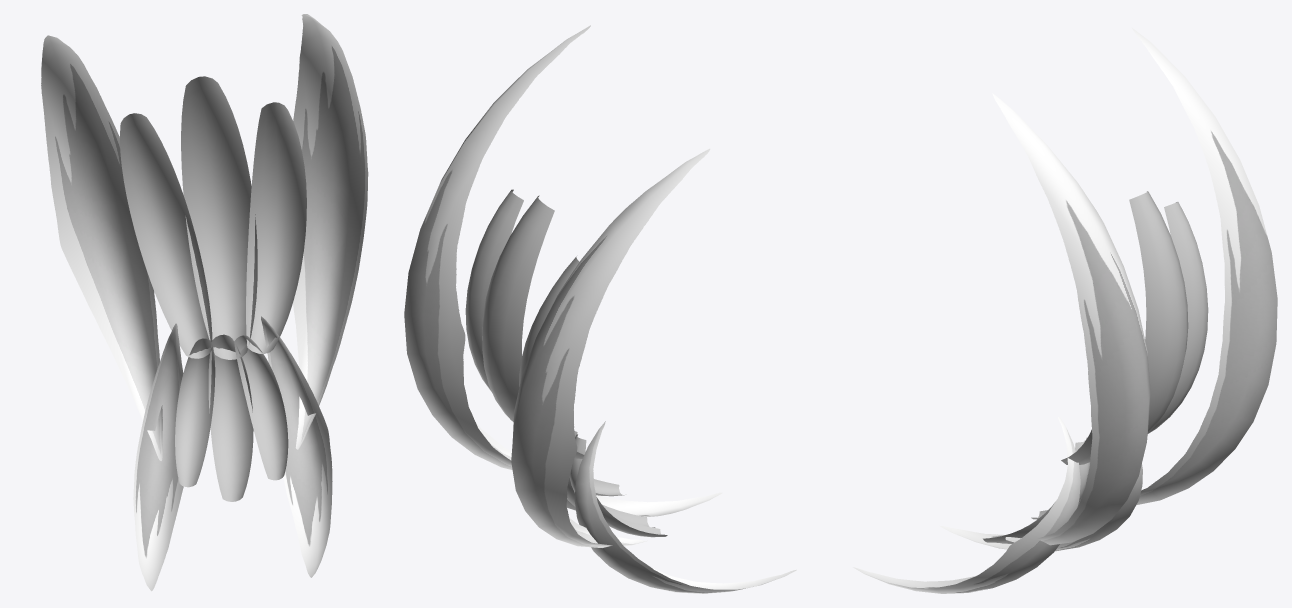
Rendered from fx_m10201_skill01.fbx.
3 renders of one model, left to right at view 1: azimuth 30°, elevation 25°; view 2: azimuth 150°, elevation 25°; view 3: azimuth 270°, elevation 25°, orthographic.
Visible parts, largest first — view 1: trail_alpha_out, trail_alpha, trail_bottom_out_alpha, trail_bottom_alpha; view 2: trail_alpha_out, trail_alpha, trail_bottom_out_alpha, trail_bottom_alpha; view 3: trail_alpha_out, trail_alpha, trail_bottom_out_alpha, trail_bottom_alpha.
Part boxes in pixels (<box>): trail_alpha_out: <box>41,14,368,460</box>; trail_alpha: <box>119,76,306,359</box>; trail_bottom_out_alpha: <box>133,316,332,591</box>; trail_bottom_alpha: <box>175,334,288,501</box>; trail_alpha_out: <box>404,25,710,547</box>; trail_alpha: <box>465,189,583,458</box>; trail_bottom_out_alpha: <box>566,421,796,593</box>; trail_bottom_alpha: <box>567,431,667,537</box>; trail_alpha_out: <box>992,28,1277,545</box>; trail_alpha: <box>1061,191,1208,464</box>; trail_bottom_out_alpha: <box>853,417,1142,593</box>; trail_bottom_alpha: <box>983,437,1089,543</box>.
Size of the model in its own units: 240 by 360 by 267.
